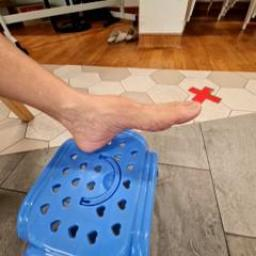Medial View -Left Foot-: (38, 65, 214, 162)
